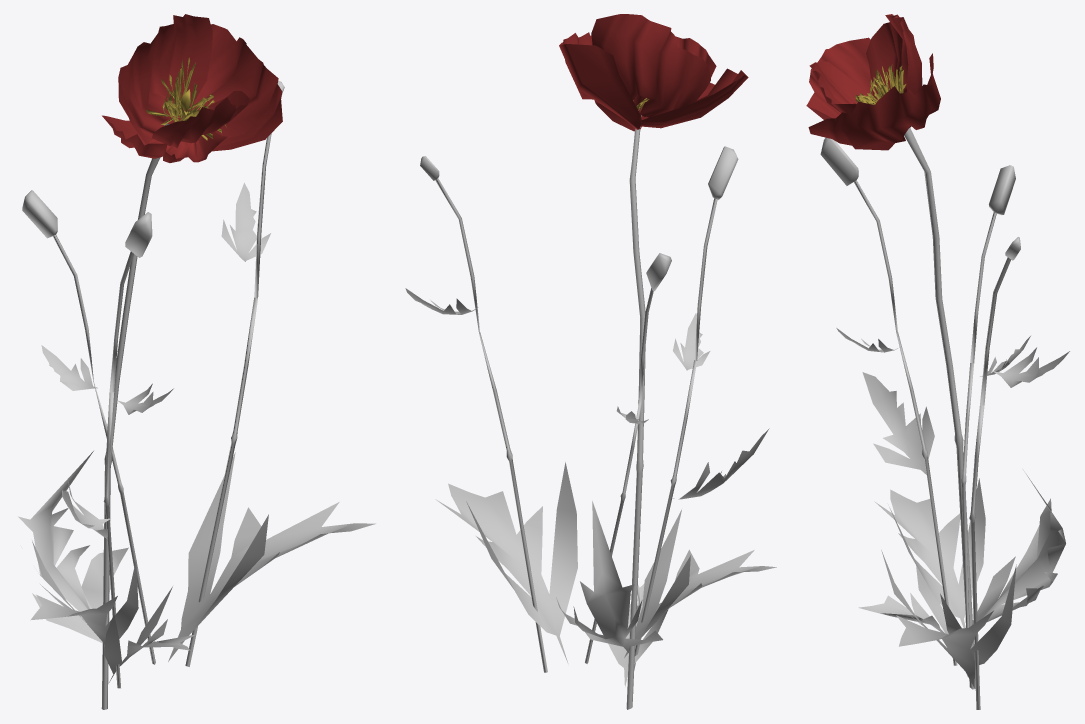
The model's file is RedPoppy.glb.
The picture shows the model from 3 angles, left to right: view 1: azimuth 30°, elevation 25°; view 2: azimuth 150°, elevation 25°; view 3: azimuth 270°, elevation 25°; orthographic projection. The views are drawn at different scales.
Visible parts, largest first — view 1: RedPoppy; view 2: RedPoppy; view 3: RedPoppy.
Boxes of the visible parts, left/top/right/bottom form: RedPoppy: left=18, top=14, right=375, bottom=709; RedPoppy: left=405, top=14, right=776, bottom=709; RedPoppy: left=806, top=14, right=1069, bottom=709.
Size of the model in its own units: 0.2264 by 0.4399 by 0.1535.
